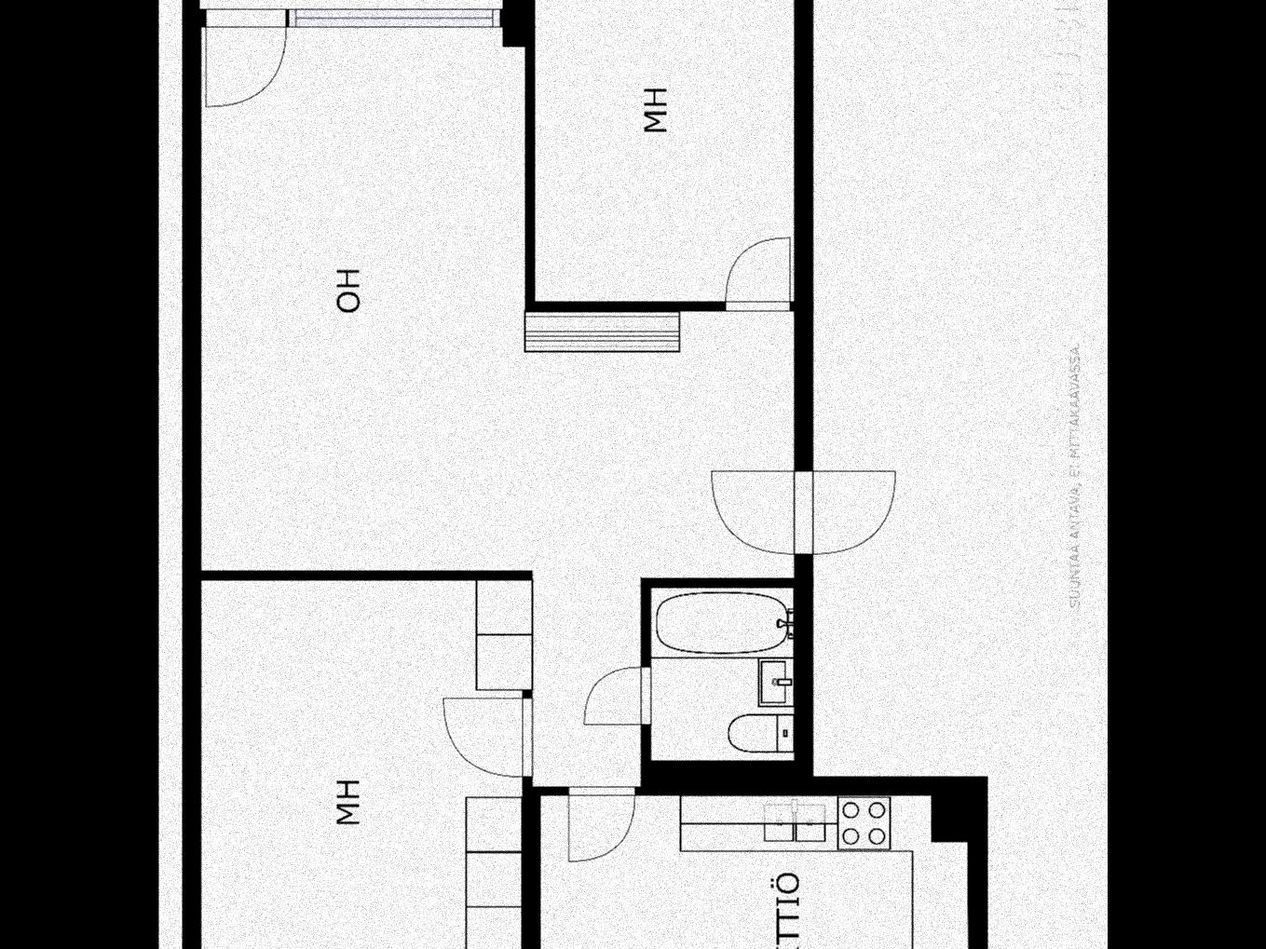door: (713, 454, 902, 557), (201, 2, 293, 109), (440, 690, 531, 778), (567, 785, 638, 865), (724, 236, 796, 313), (579, 663, 652, 727)
window: (288, 6, 496, 32)
zone: (202, 27, 798, 787), (198, 577, 528, 949), (531, 0, 795, 305), (539, 793, 969, 949), (652, 588, 788, 761)
